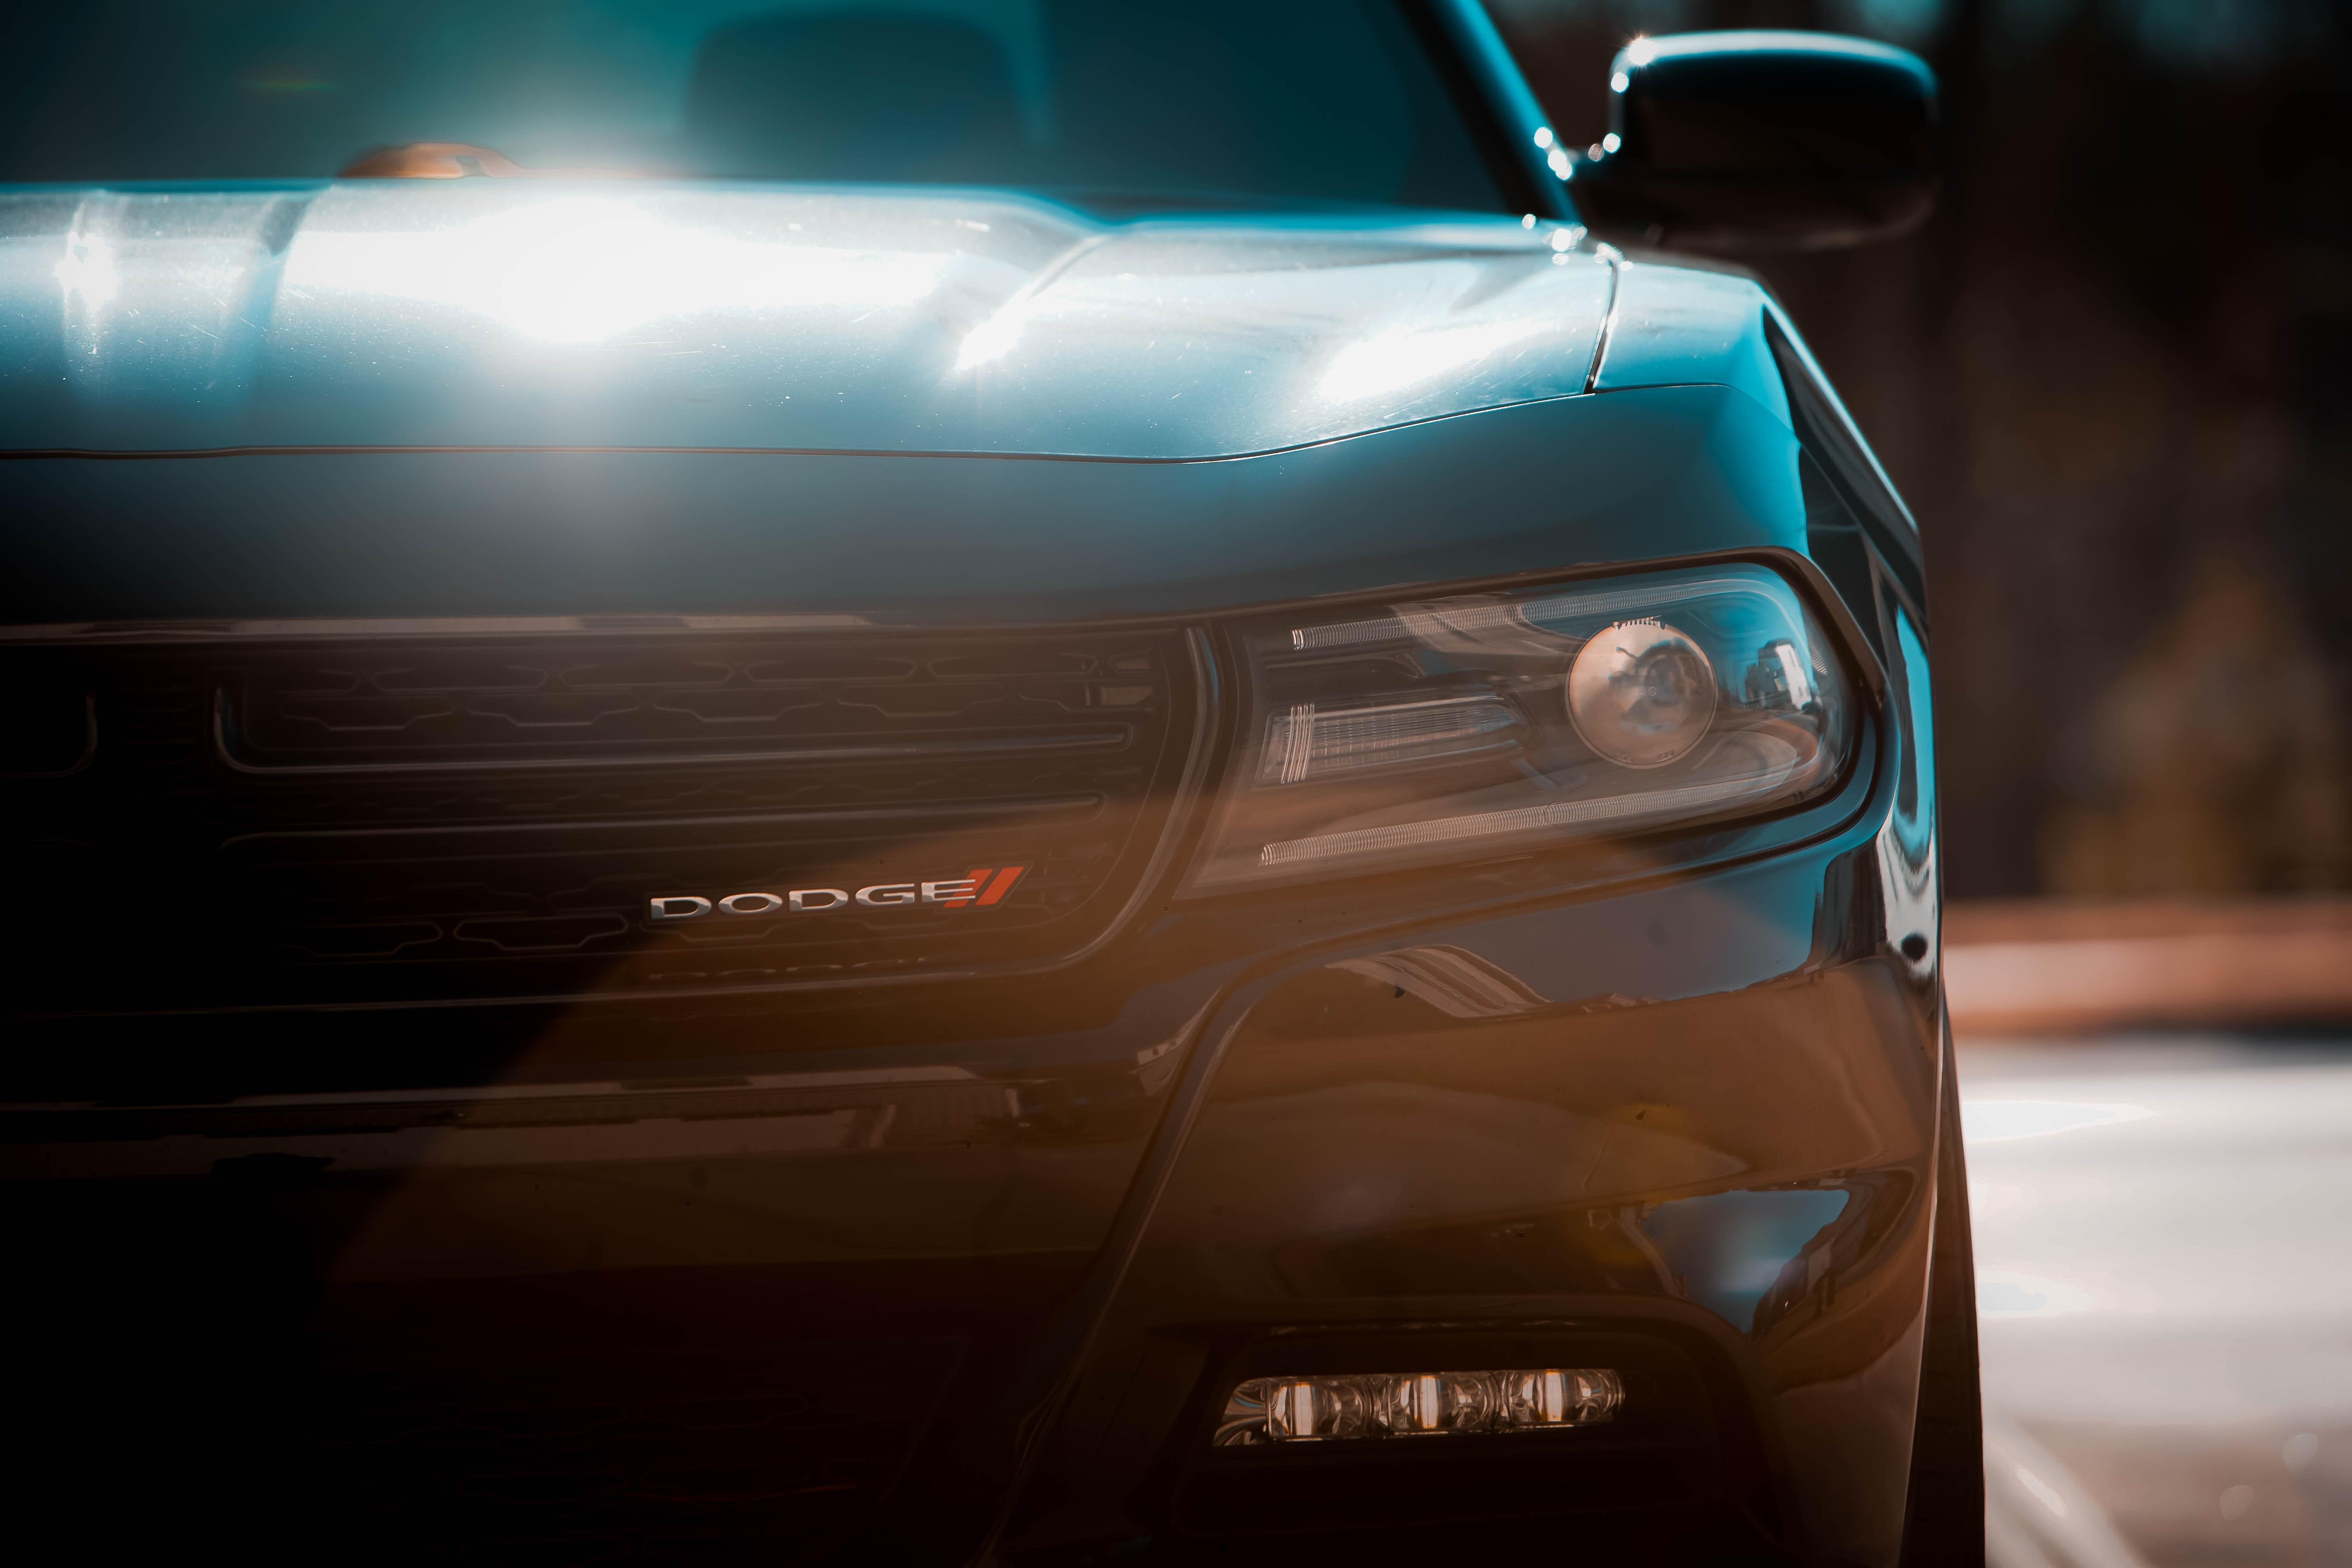dodge: (609, 828, 1059, 970)
